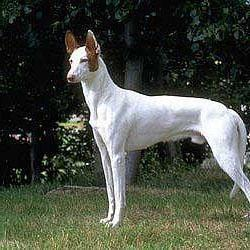Ibizan_hound: (64, 28, 249, 228)
